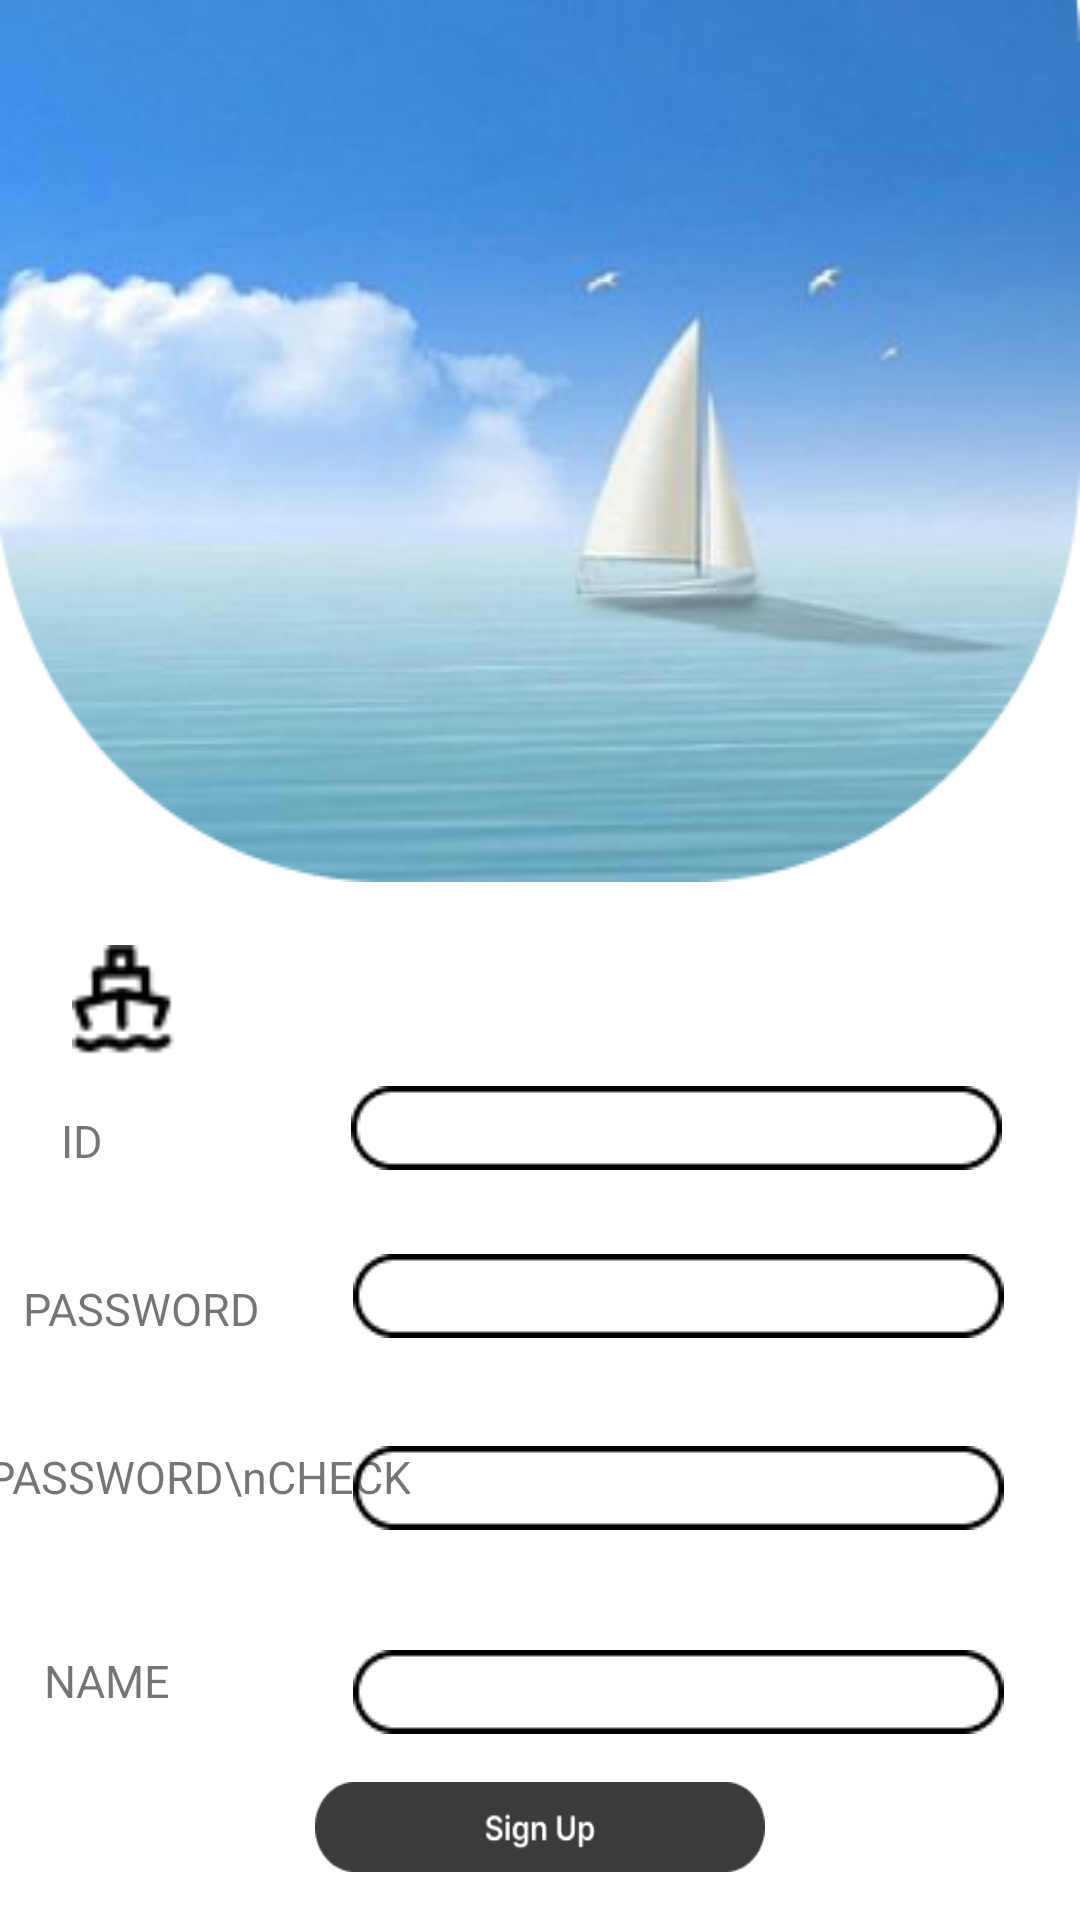

Screen size 1080*1920. Icon name, then its box in pixels as bbox=[x1, y1, x2, y2]:
iconship: bbox=[72, 945, 174, 1053]
